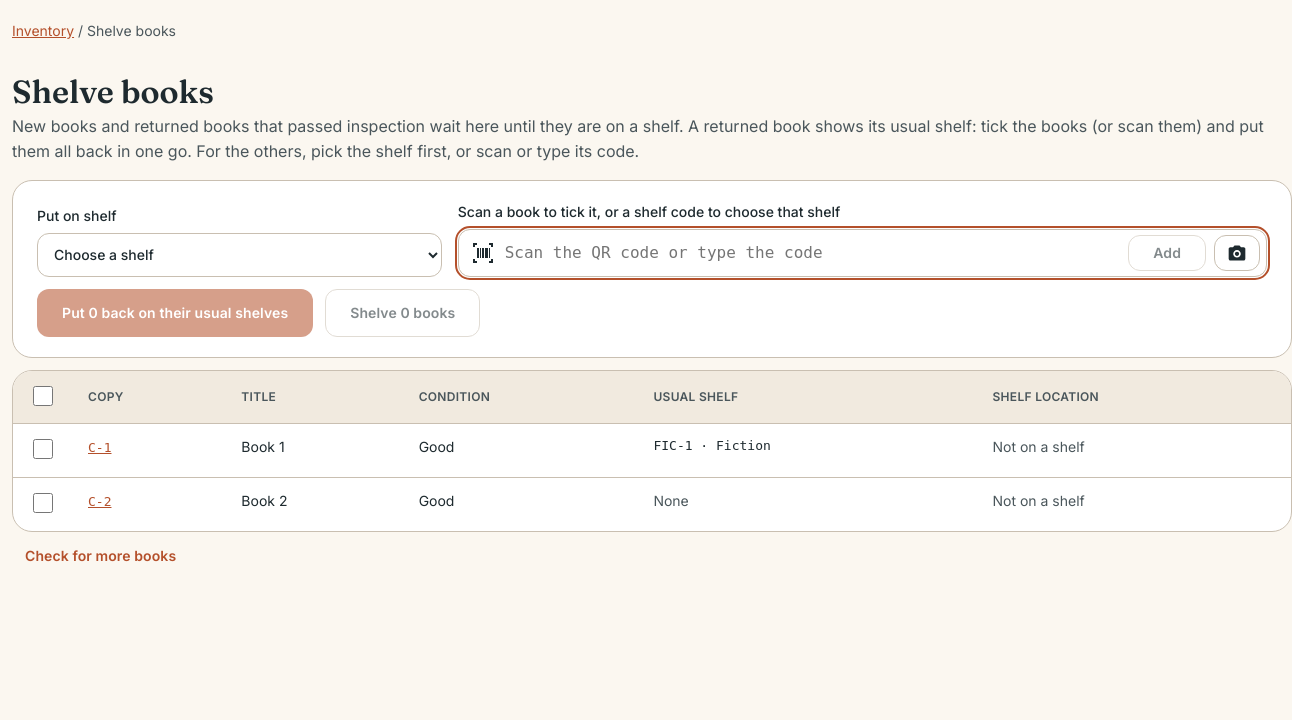
Scenario: Shelve books: reading the list again › holds both save buttons while the list is read again, so an older read cannot undo a save on screen
The width and height of the screenshot is (1292, 720).
Later steps or results of the test are not shown.
Step 1. Click the checkbox named "Select C-1" → (43, 449), box [33,439,53,459]
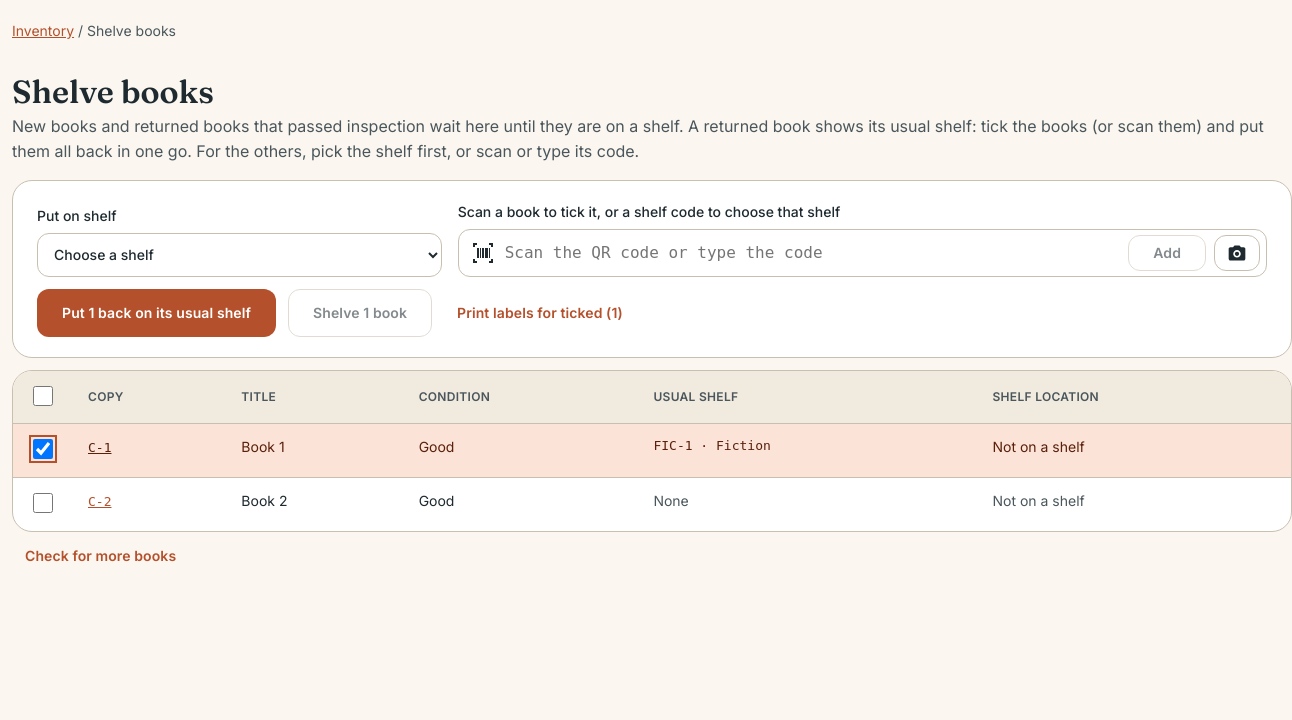
Step 2. Select "FIC-1 · Fiction" in the dropdown labelled "Put on shelf" → (239, 255), box [37,233,442,277]
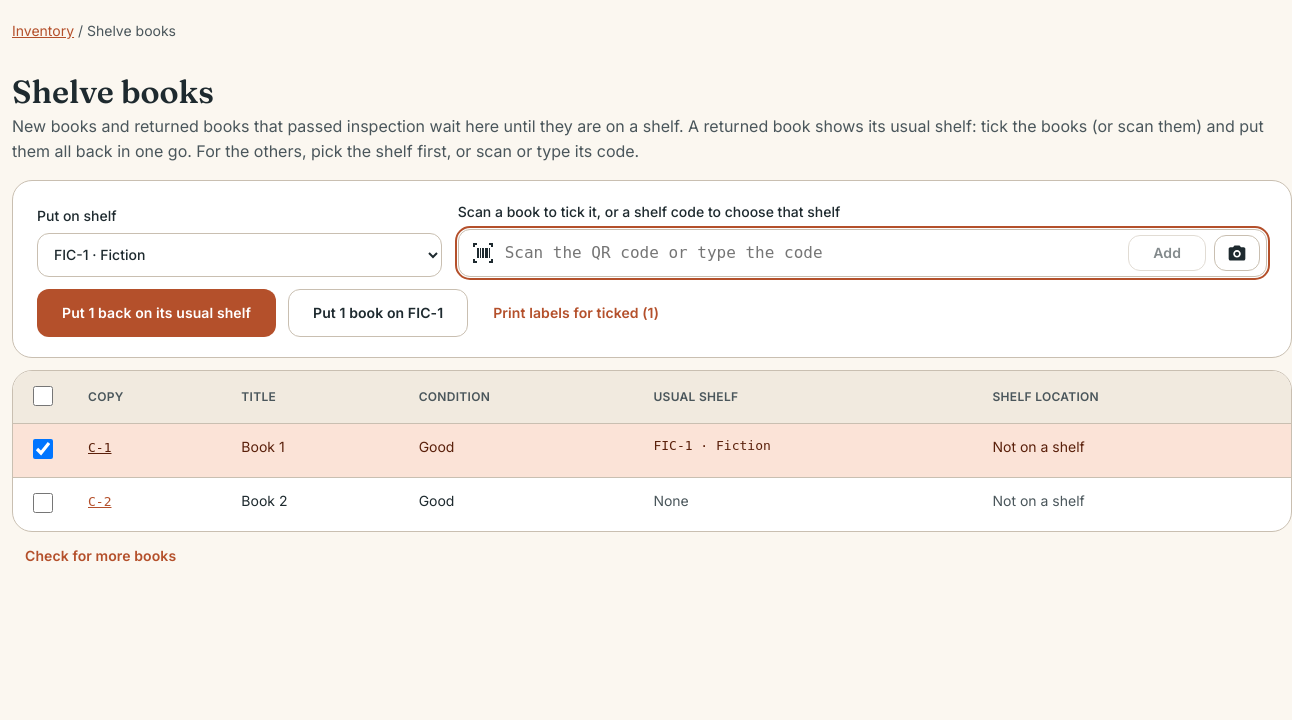
Step 3. Click the button "Check for more books" → (101, 556), box [12,532,189,580]
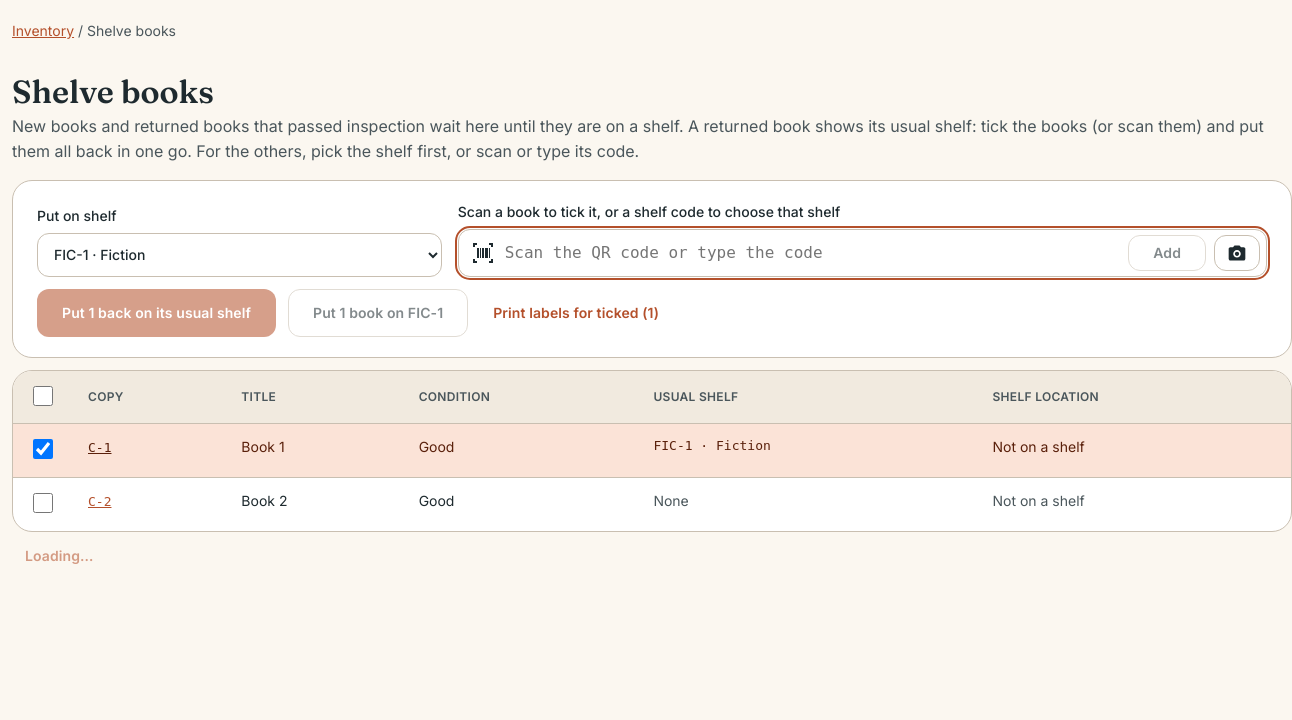
Result: the button "Loading…" is disabled at [12,532,106,580]
